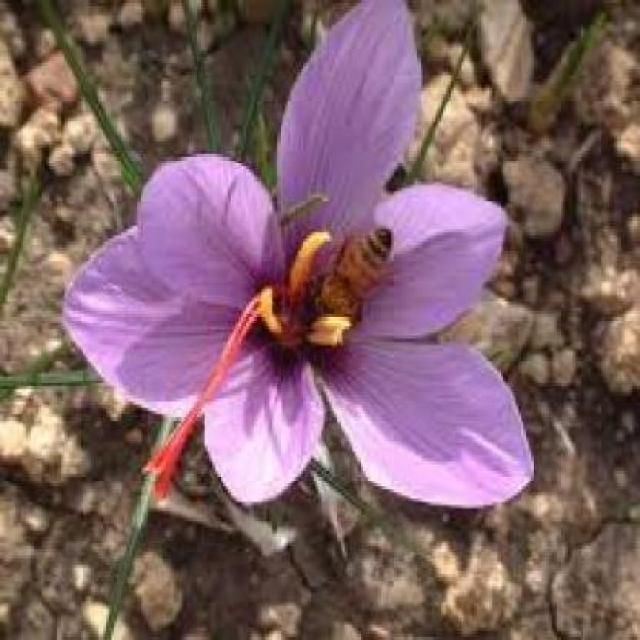Flower: (69, 4, 548, 519)
stigma: (123, 259, 309, 535)
